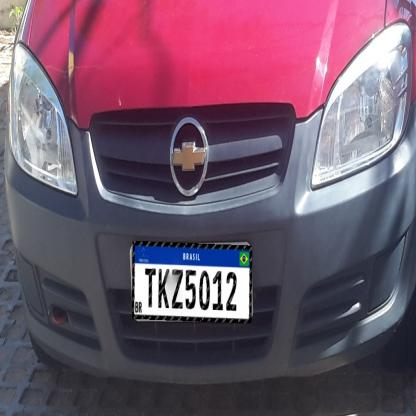PlacaM: (132, 241, 252, 323)
